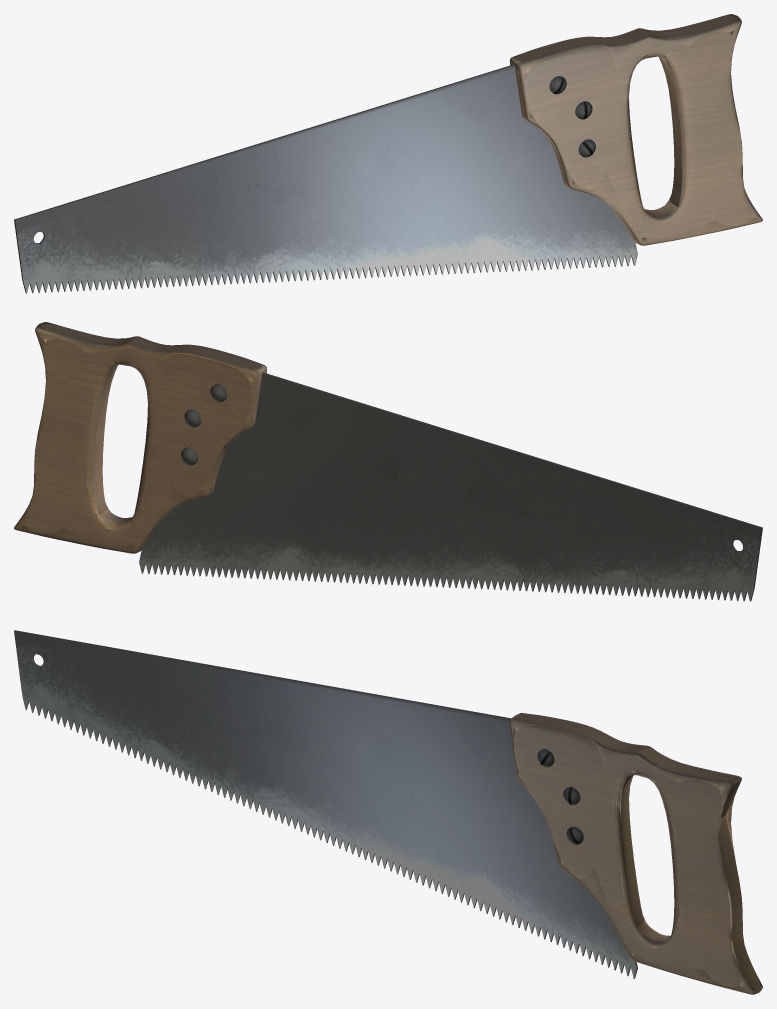
Rendered from saww fbx.fbx.
The picture shows the model from 3 angles, top to bottom: view 1: azimuth 30°, elevation 25°; view 2: azimuth 150°, elevation 25°; view 3: azimuth 330°, elevation 25°; orthographic projection.
Parts seen in each view (by area): view 1: 10295_Hand_saw_v1_Iterations-2; view 2: 10295_Hand_saw_v1_Iterations-2; view 3: 10295_Hand_saw_v1_Iterations-2.
Part boxes in pixels (x1,y1,x2,y2): 10295_Hand_saw_v1_Iterations-2: (14,14,762,293); 10295_Hand_saw_v1_Iterations-2: (14,322,762,601); 10295_Hand_saw_v1_Iterations-2: (14,630,762,994).
Bounding box in the file's own units: 4995 × 1520 × 198.
Materials: 1 (1 with a texture image).
